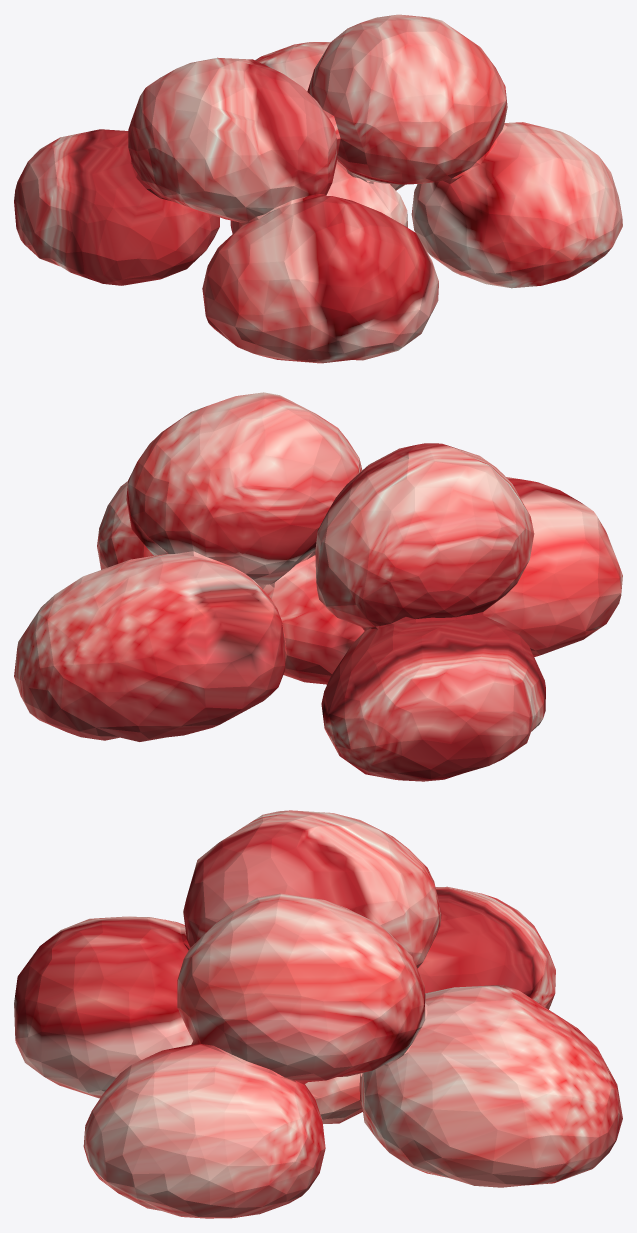
File: HariboF.fbx
3 views of the same model, one above another, from view 1: azimuth 30°, elevation 25°; view 2: azimuth 150°, elevation 25°; view 3: azimuth 270°, elevation 25° (orthographic). The views are drawn at different scales.
Visible parts, largest first — view 1: Mesh1.0; view 2: Mesh1.0; view 3: Mesh1.0.
Part boxes in pixels (x1,y1,x2,y2): Mesh1.0: (14, 14, 622, 363); Mesh1.0: (14, 392, 622, 781); Mesh1.0: (14, 810, 622, 1218).
Size of the model in its own units: 190 by 82.18 by 189.
